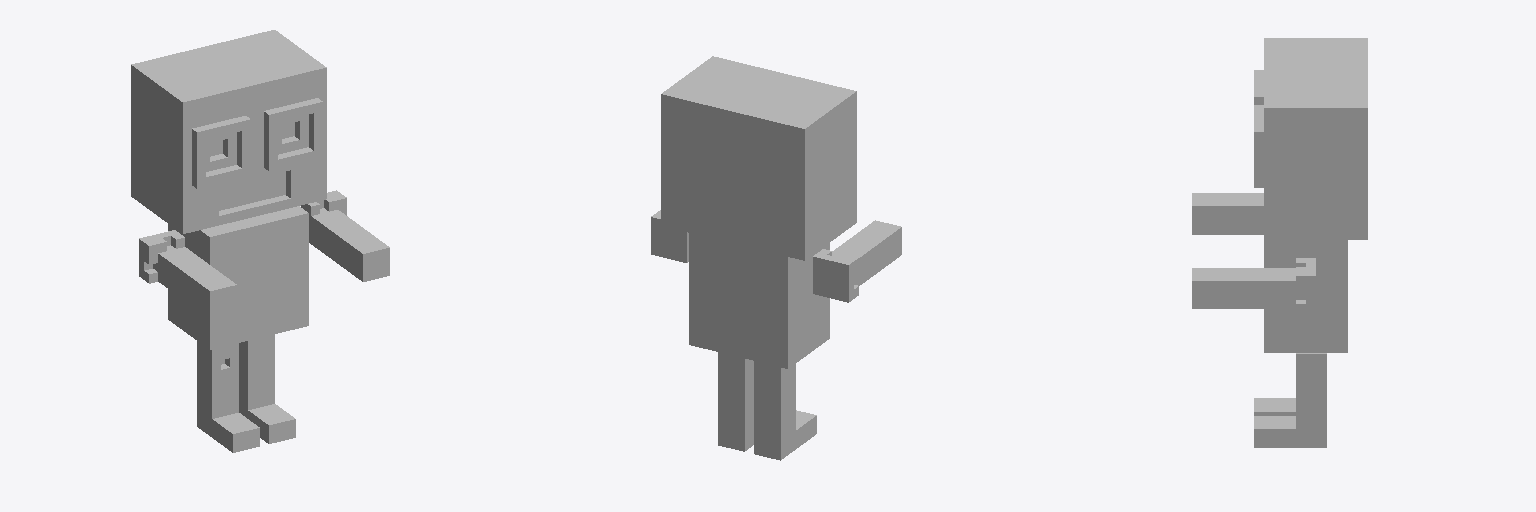
File: zombie.obj
The picture shows the model from 3 angles: view 1: azimuth 30°, elevation 25°; view 2: azimuth 150°, elevation 25°; view 3: azimuth 270°, elevation 25°; orthographic projection.
Visible parts, largest first — view 1: object 1; view 2: object 1; view 3: object 1.
Boxes of the visible parts, box(x1,y1,x2,y2) form: object 1: box(131, 30, 389, 452); object 1: box(651, 56, 901, 460); object 1: box(1192, 38, 1367, 447).
Size of the model in its own units: 2.2 by 3.8 by 1.7.